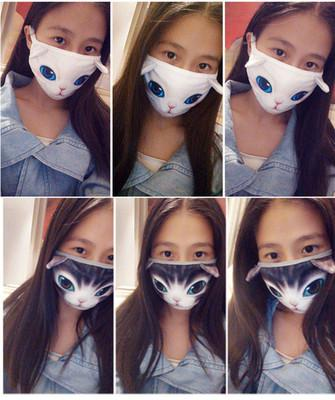OK: (141, 36, 220, 115), (256, 231, 331, 313), (32, 20, 110, 98), (246, 35, 324, 113), (52, 233, 128, 309), (149, 236, 224, 311)
